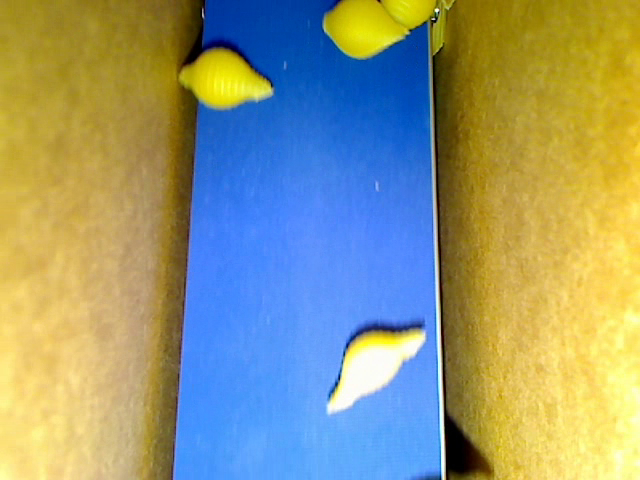penne: (430, 1, 449, 64)
shell: (323, 327, 429, 415), (178, 46, 273, 108), (317, 1, 407, 56), (379, 1, 439, 29)
